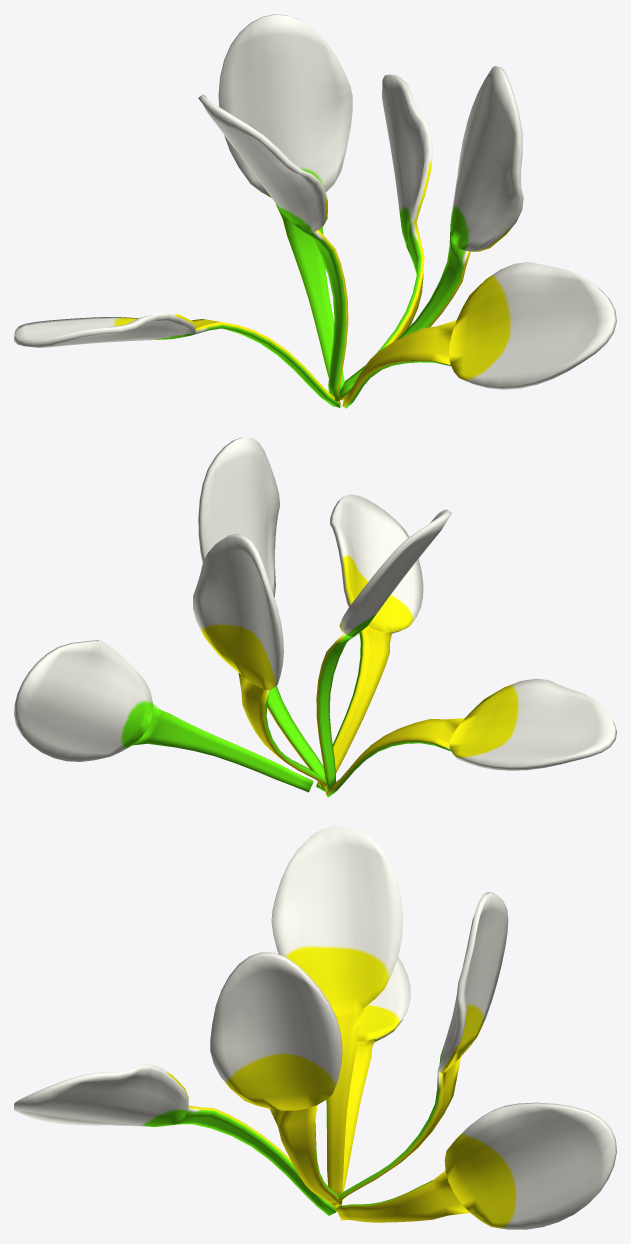
Rendered from Flower.glb.
The picture shows the model from 3 angles, top to bottom: view 1: azimuth 30°, elevation 25°; view 2: azimuth 150°, elevation 25°; view 3: azimuth 270°, elevation 25°; orthographic projection. The views are drawn at different scales.
Visible parts, largest first — view 1: Circle.004, Circle.005, Circle.003, Circle, Circle.001, Circle.002; view 2: Circle.001, Circle.002, Circle.004, Circle.005, Circle.003, Circle; view 3: Circle, Circle.001, Circle.003, Circle.005, Circle.004, Circle.002.
Boxes of the visible parts, x1,y1,x2,y2 form: Circle.004: (218, 14, 352, 390); Circle.005: (342, 262, 616, 408); Circle.003: (339, 66, 523, 400); Circle: (198, 94, 348, 401); Circle.001: (375, 74, 432, 354); Circle.002: (14, 313, 340, 407); Circle.001: (14, 640, 313, 792); Circle.002: (325, 678, 616, 797); Circle.004: (193, 533, 326, 786); Circle.005: (316, 494, 423, 792); Circle.003: (198, 437, 324, 786); Circle: (316, 509, 451, 792); Circle: (271, 826, 403, 1203); Circle.001: (336, 1102, 616, 1229); Circle.003: (210, 952, 342, 1205); Circle.005: (14, 1064, 336, 1215); Circle.004: (332, 892, 508, 1205); Circle.002: (335, 957, 410, 1211).
Bounding box in the file's own units: 9.13 × 5.72 × 9.54.
Materials: 1 (1 with a texture image).
